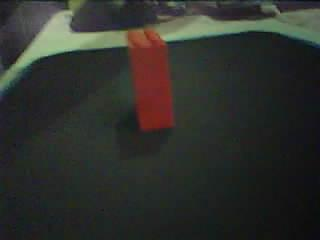lego: (125, 28, 175, 135)
